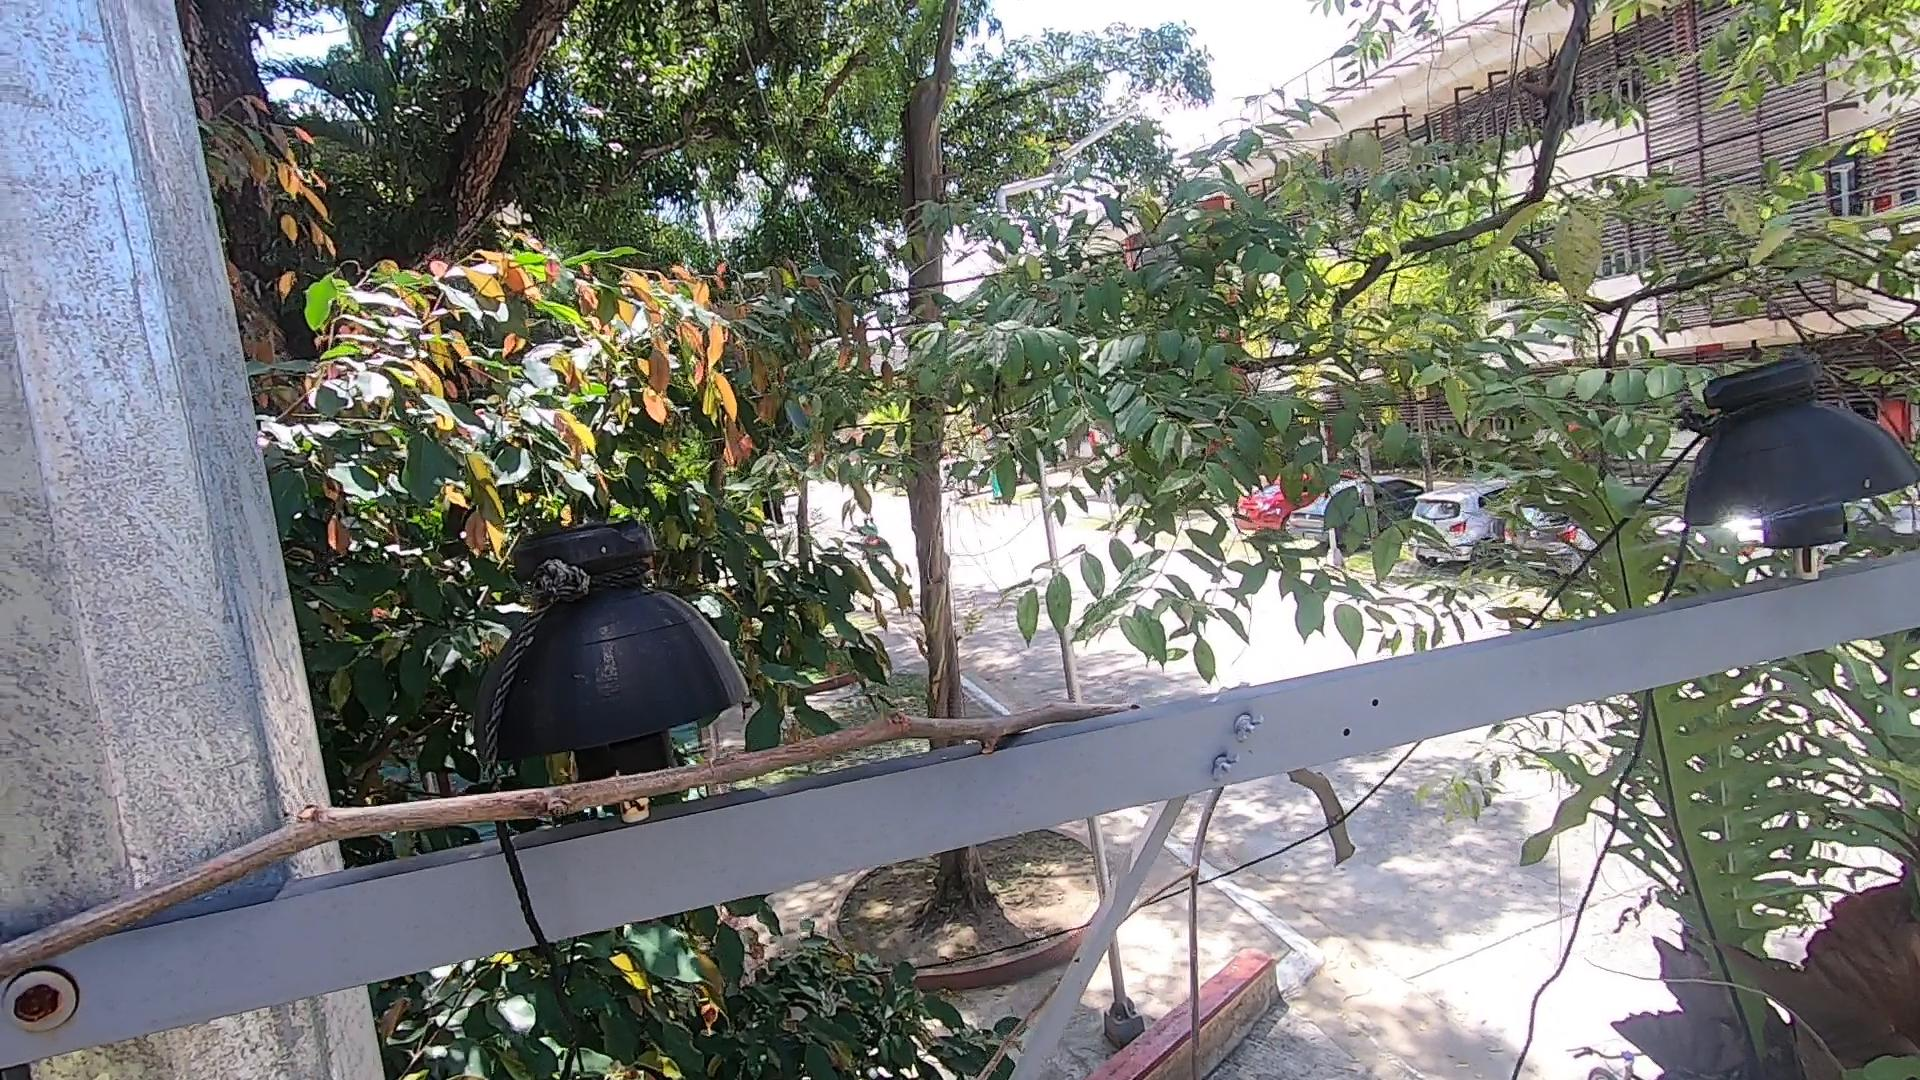tree branch: (1, 704, 1124, 988), (1112, 789, 1232, 1077), (1271, 765, 1367, 878), (965, 992, 1063, 1080)
